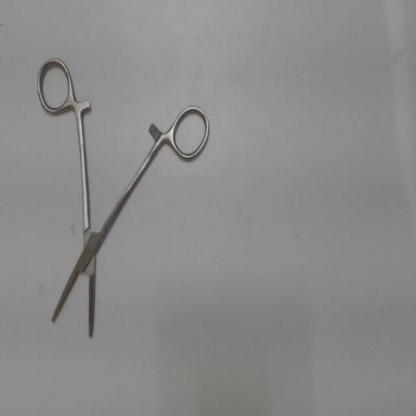Mayo Needle Holder: (30, 48, 216, 346)
